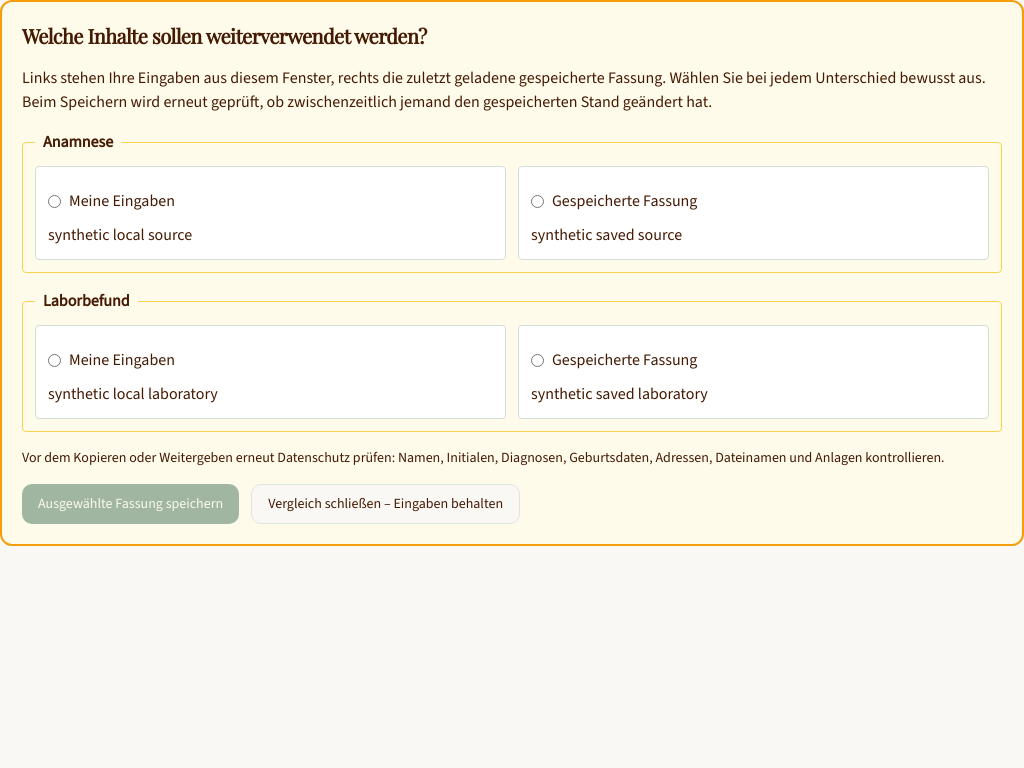
Test case: explicit conflict choices › keeps saving disabled until the user chooses both fields
This screenshot has width=1024, height=768.
Later steps or results of the test are not shown.
Expected: the button "Ausgewählte Fassung speichern" is disabled, 22,484 -> 239,524
What coordinates should you click on to do the following:
click the radio button labelled "Meine Eingaben synthetic local source"
I would click on:
 (54, 201)
Its box is 48,194 -> 61,208.
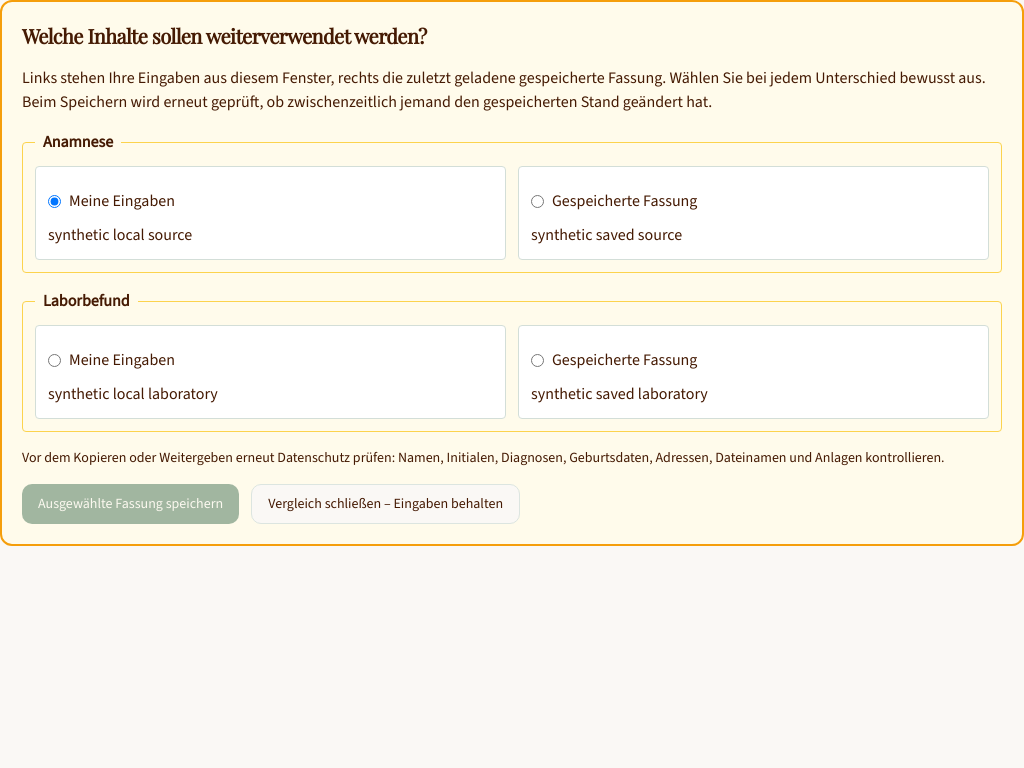
Expected: the button "Ausgewählte Fassung speichern" is disabled, 22,484 -> 239,524
What coordinates should you click on to do the following:
click the radio button labelled "Gespeicherte Fassung synthetic saved laboratory"
I would click on:
 (538, 360)
Its box is 531,354 -> 544,366.
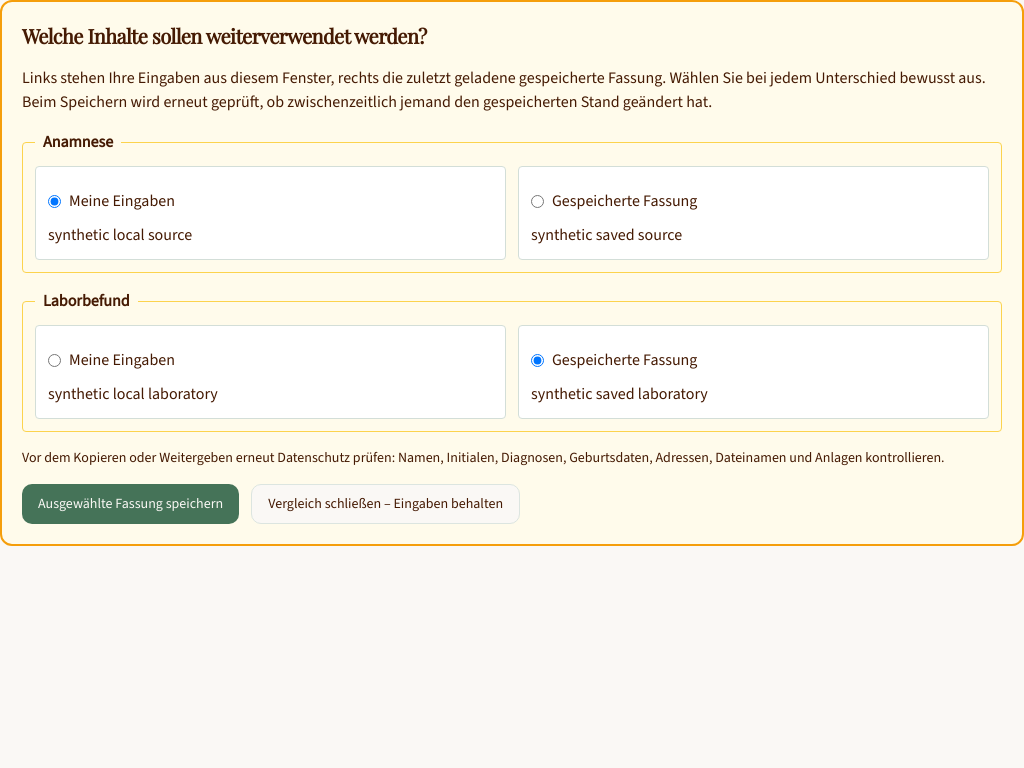
Result: the button "Ausgewählte Fassung speichern" is enabled at 22,484 -> 239,524
